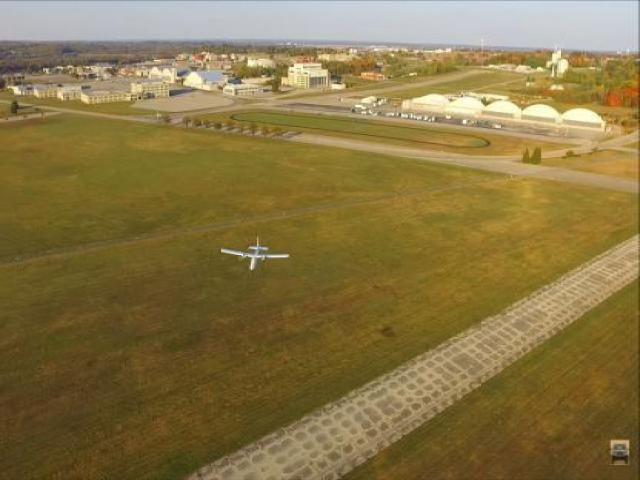uav: (219, 234, 290, 273)
